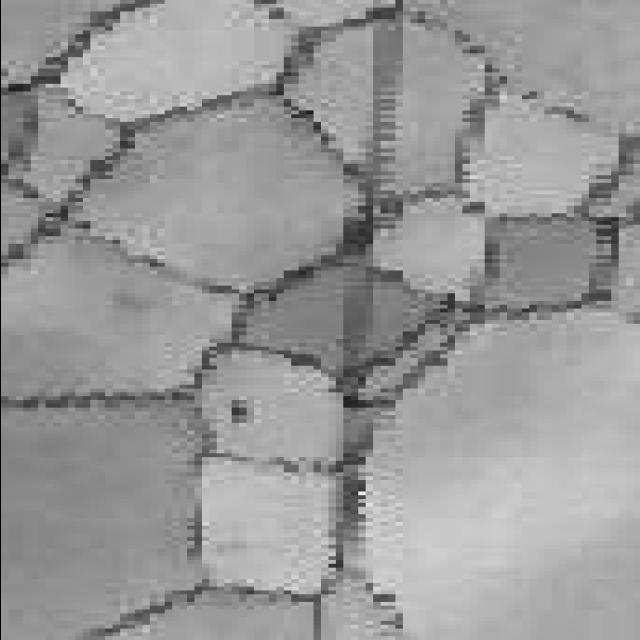good_void: (223, 398, 257, 428)
